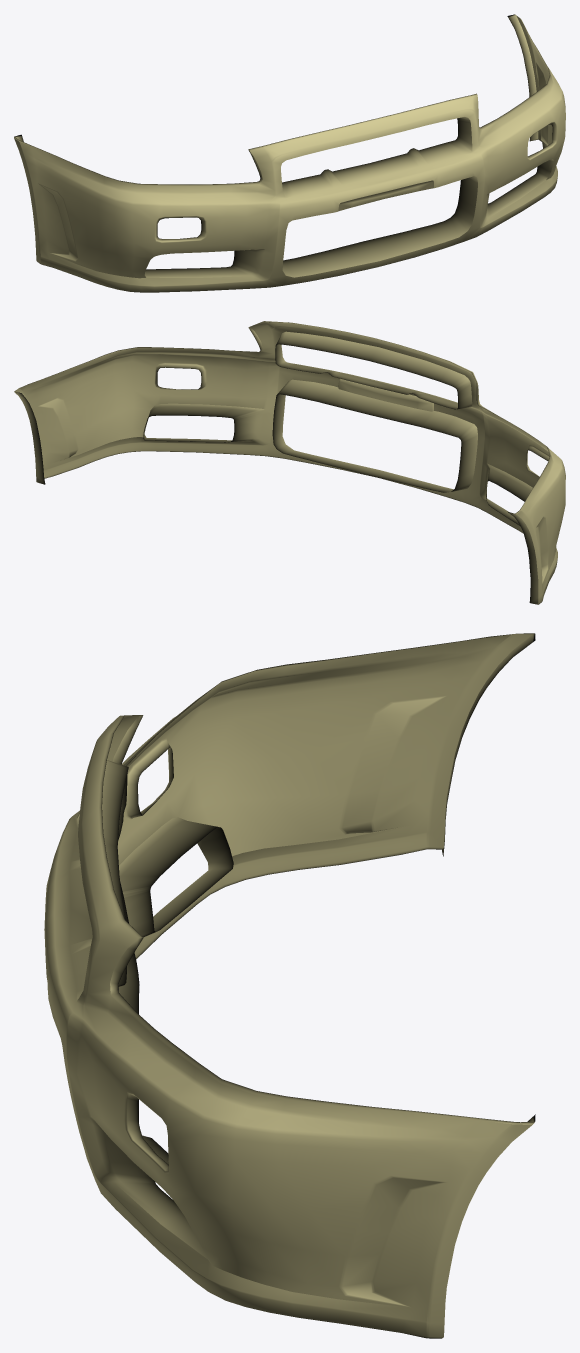
Rendered from R34_FB01_Duco.fbx.
3 renders of one model, top to bottom at view 1: azimuth 30°, elevation 25°; view 2: azimuth 150°, elevation 25°; view 3: azimuth 270°, elevation 25°, orthographic. The views are drawn at different scales.
Visible parts, largest first — view 1: R34_FB01_Duco; view 2: R34_FB01_Duco; view 3: R34_FB01_Duco.
Part boxes in pixels (x1=…): R34_FB01_Duco: x1=14, y1=14, x2=565, y2=292; R34_FB01_Duco: x1=14, y1=321, x2=565, y2=604; R34_FB01_Duco: x1=44, y1=633, x2=535, y2=1338.
Size of the model in its own units: 177 by 48.26 by 74.61.
